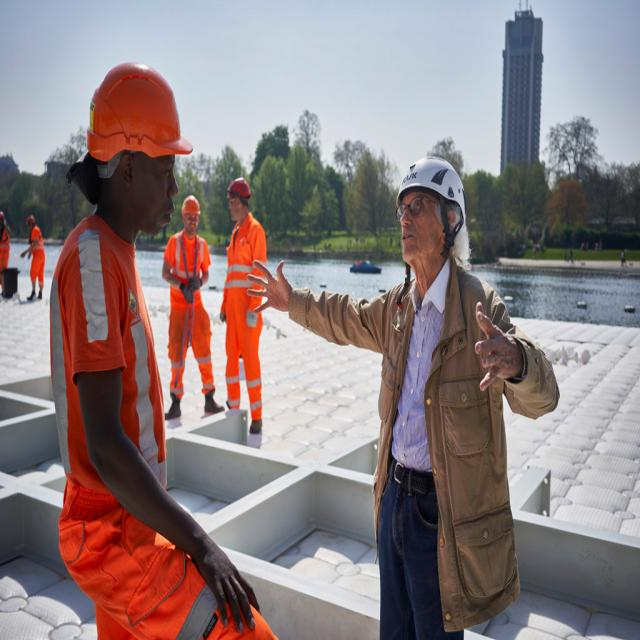Reflective-Jacket: (48, 211, 165, 531), (222, 216, 269, 422), (168, 232, 215, 398)
Safety-Helmet: (80, 58, 194, 171), (393, 152, 468, 212), (224, 172, 253, 202), (181, 192, 201, 217)
